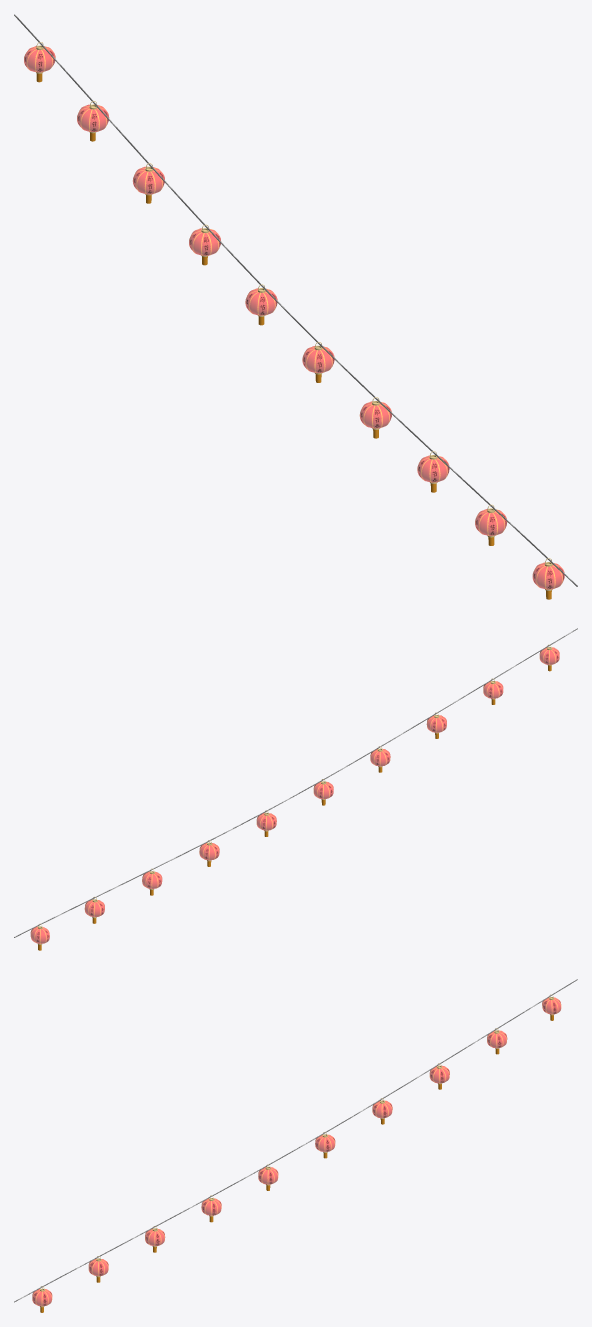
File: SM_lamp_spline_Splines_37.fbx
3 renders of one model, top to bottom at view 1: azimuth 30°, elevation 25°; view 2: azimuth 150°, elevation 25°; view 3: azimuth 330°, elevation 25°, orthographic. The views are drawn at different scales.
Visible parts, largest first — view 1: SM_lamp_spline_Splines_37; view 2: SM_lamp_spline_Splines_37; view 3: SM_lamp_spline_Splines_37.
Part boxes in pixels (x1,y1,x2,y2): SM_lamp_spline_Splines_37: (14, 14, 577, 599); SM_lamp_spline_Splines_37: (14, 628, 577, 950); SM_lamp_spline_Splines_37: (14, 979, 577, 1312).
Bounding box in the file's own units: 328 × 2458 × 115.
